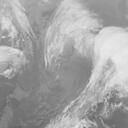cyclone: (38, 36, 95, 95)
